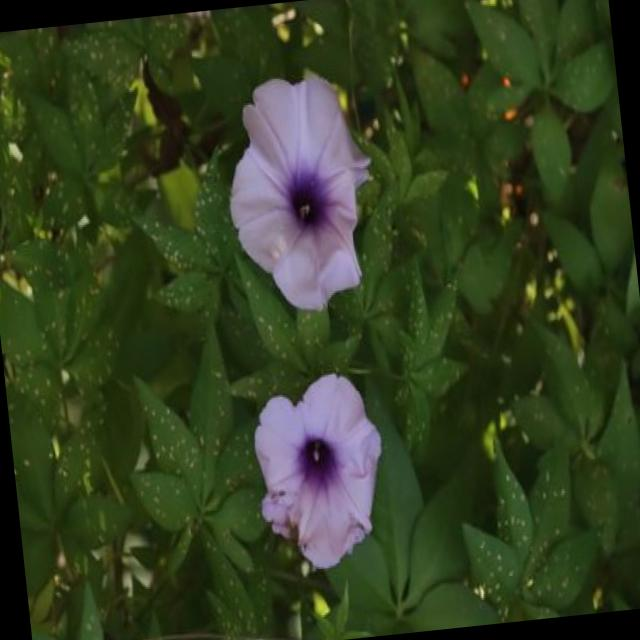ipomoea: (212, 65, 388, 324), (242, 366, 398, 580)
